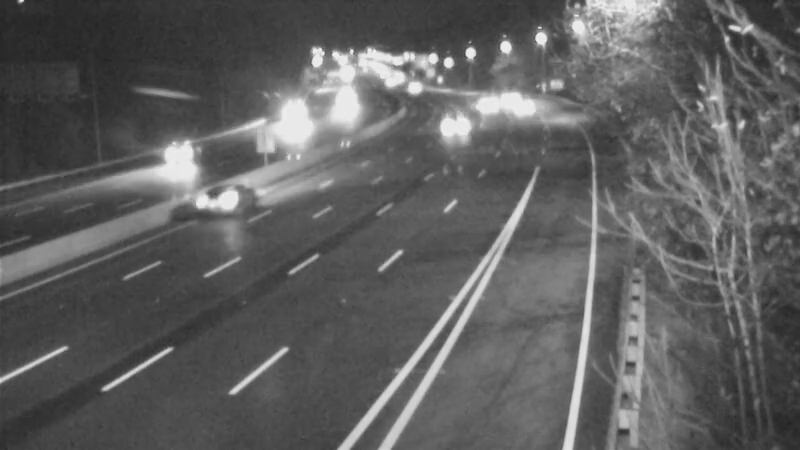vehicle: (187, 156, 267, 236), (137, 118, 217, 198), (387, 62, 437, 112), (484, 74, 534, 124), (500, 79, 550, 129), (460, 80, 510, 130), (429, 105, 479, 155), (266, 99, 316, 149), (314, 83, 364, 133)
